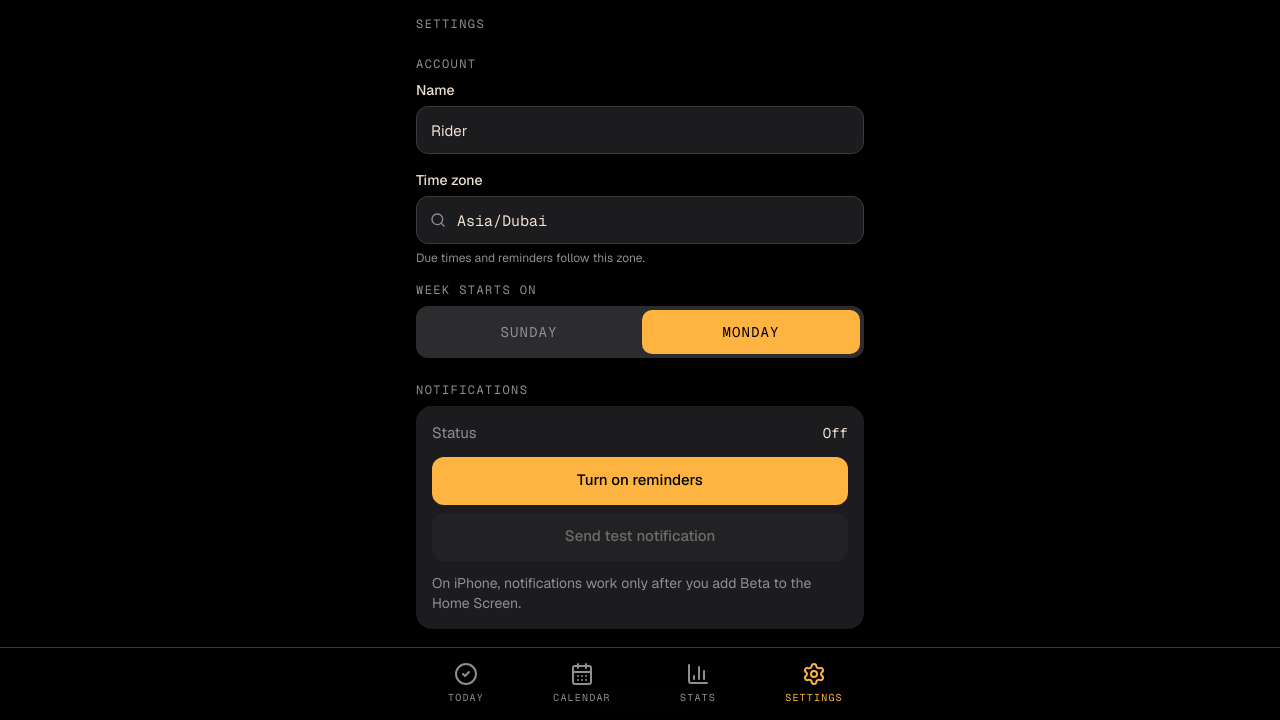
Test: Settings › account auto-save › says so when a save fails
Replace the text in the field labelled "Name" with "Nope" at [640, 130], box [416,106,864,154]
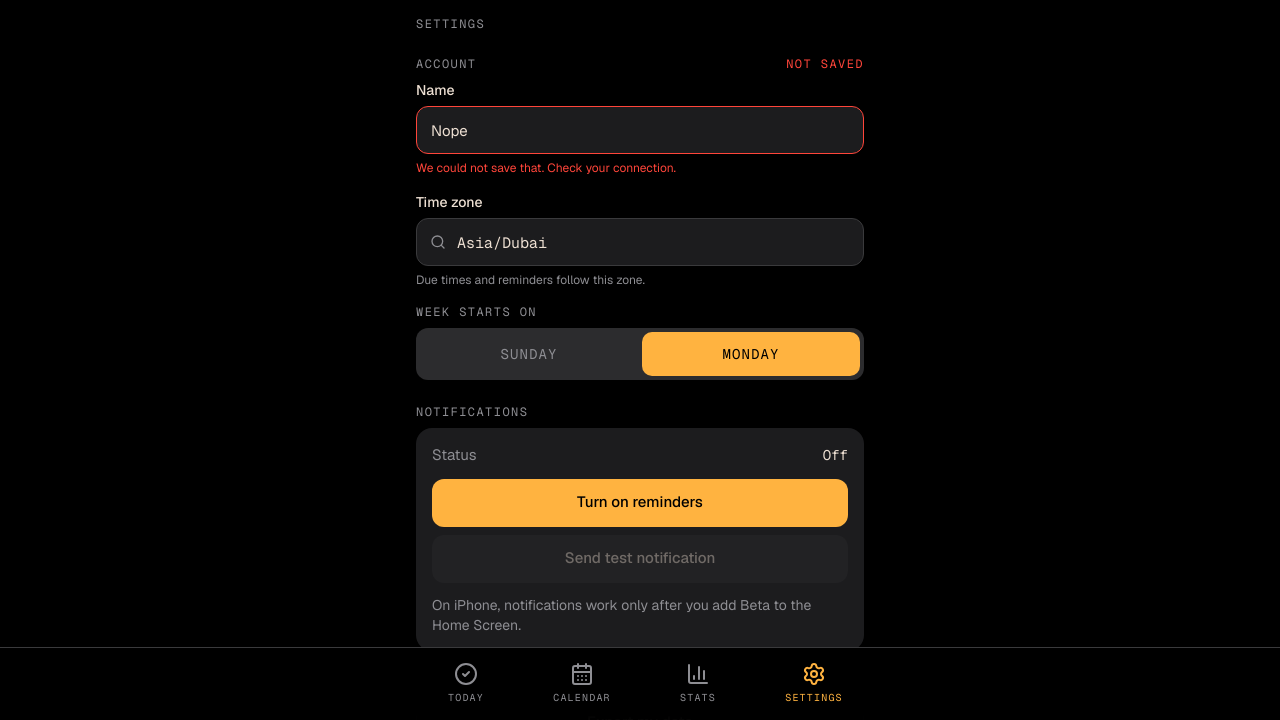
Check: the text "Not saved" is shown, box [786,56,864,72]
Check: the text "We could not save that. Check your connection." is shown, box [416,160,676,176]
